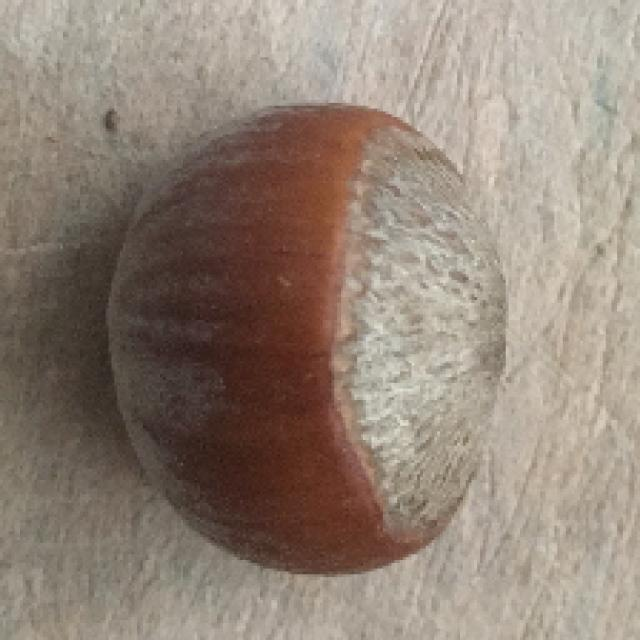qualityHazelnut: (112, 98, 509, 580)
